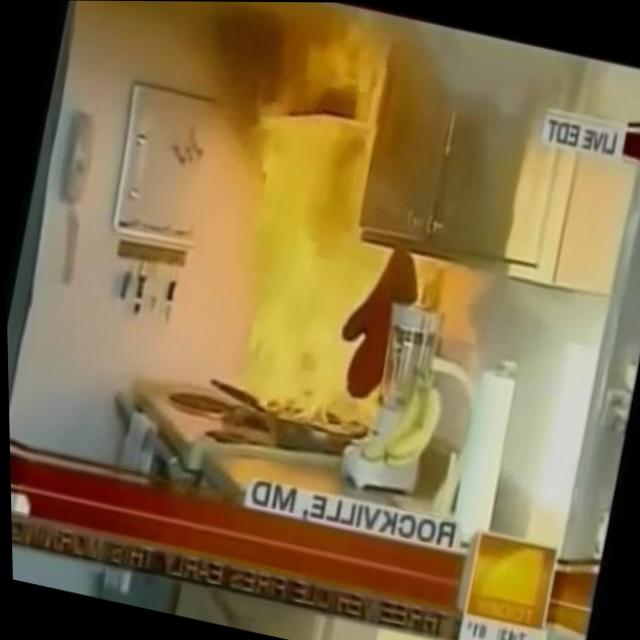fire: (201, 108, 420, 440)
